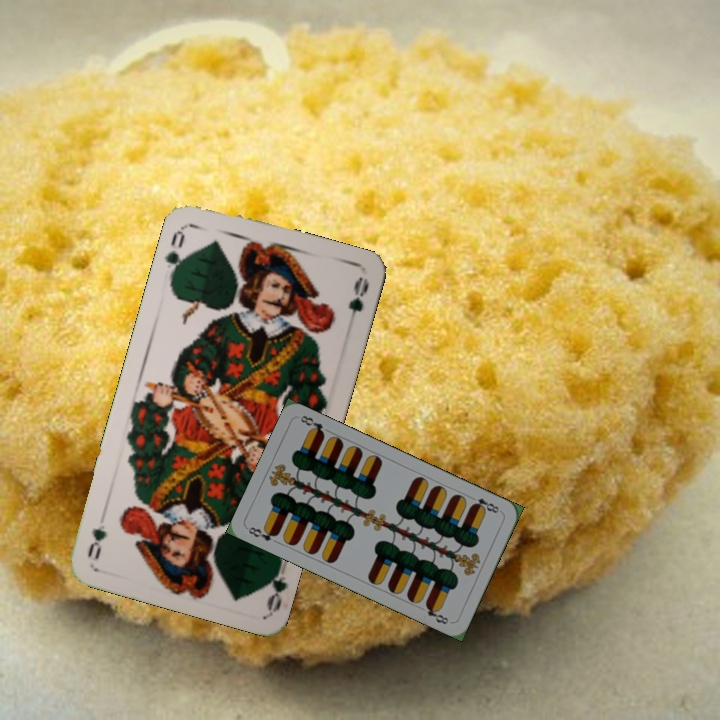E8: (466, 492, 504, 516), (244, 522, 281, 544)
GO: (259, 552, 291, 613), (160, 223, 190, 281)
